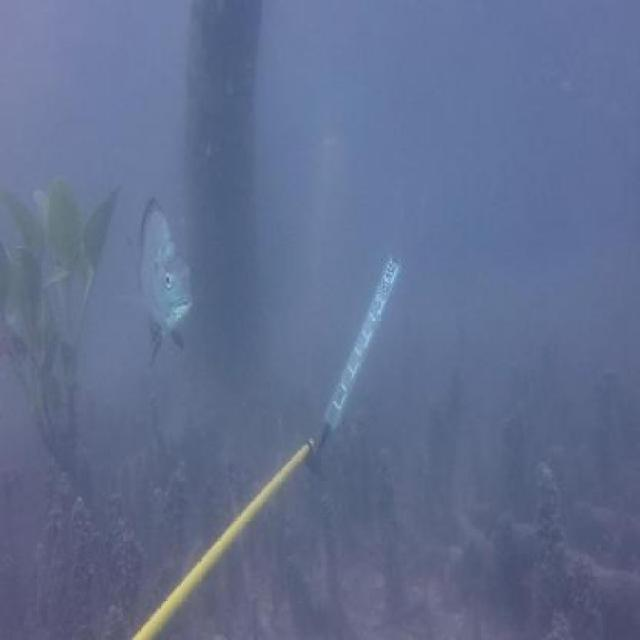acanthopagrus_palmaris: (130, 191, 195, 377)
